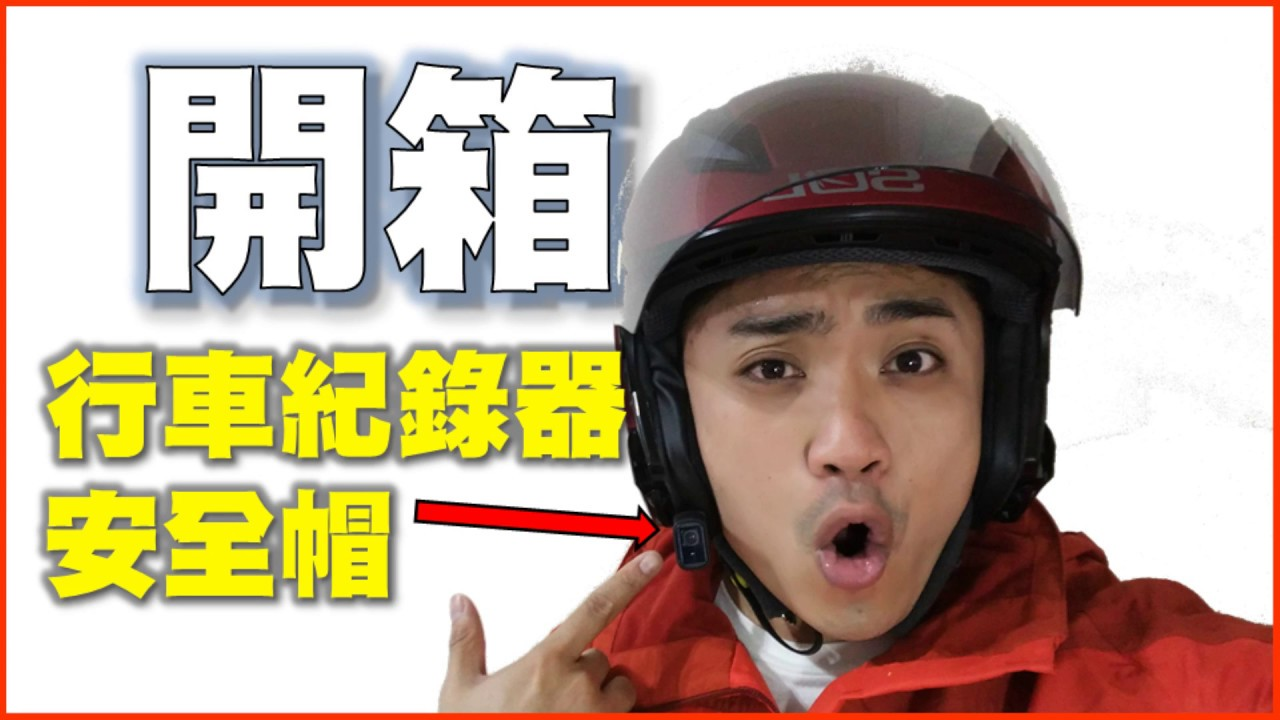helmet: (586, 91, 1097, 355)
